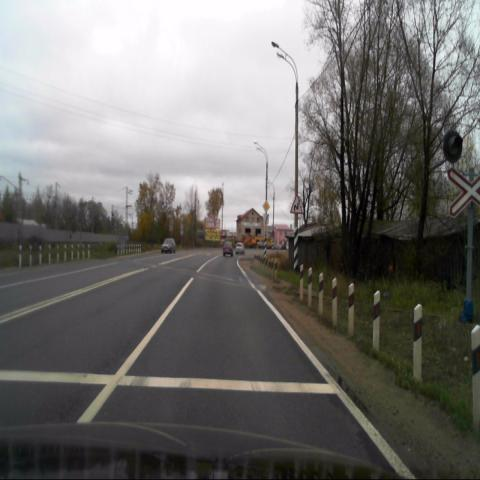1_12: (290, 194, 302, 213)
